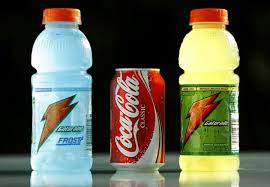can: (105, 40, 171, 179)
